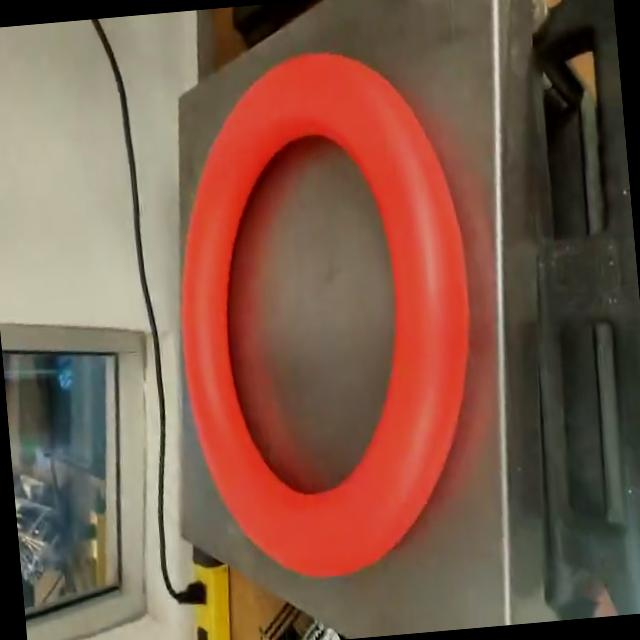note: (152, 38, 500, 594)
